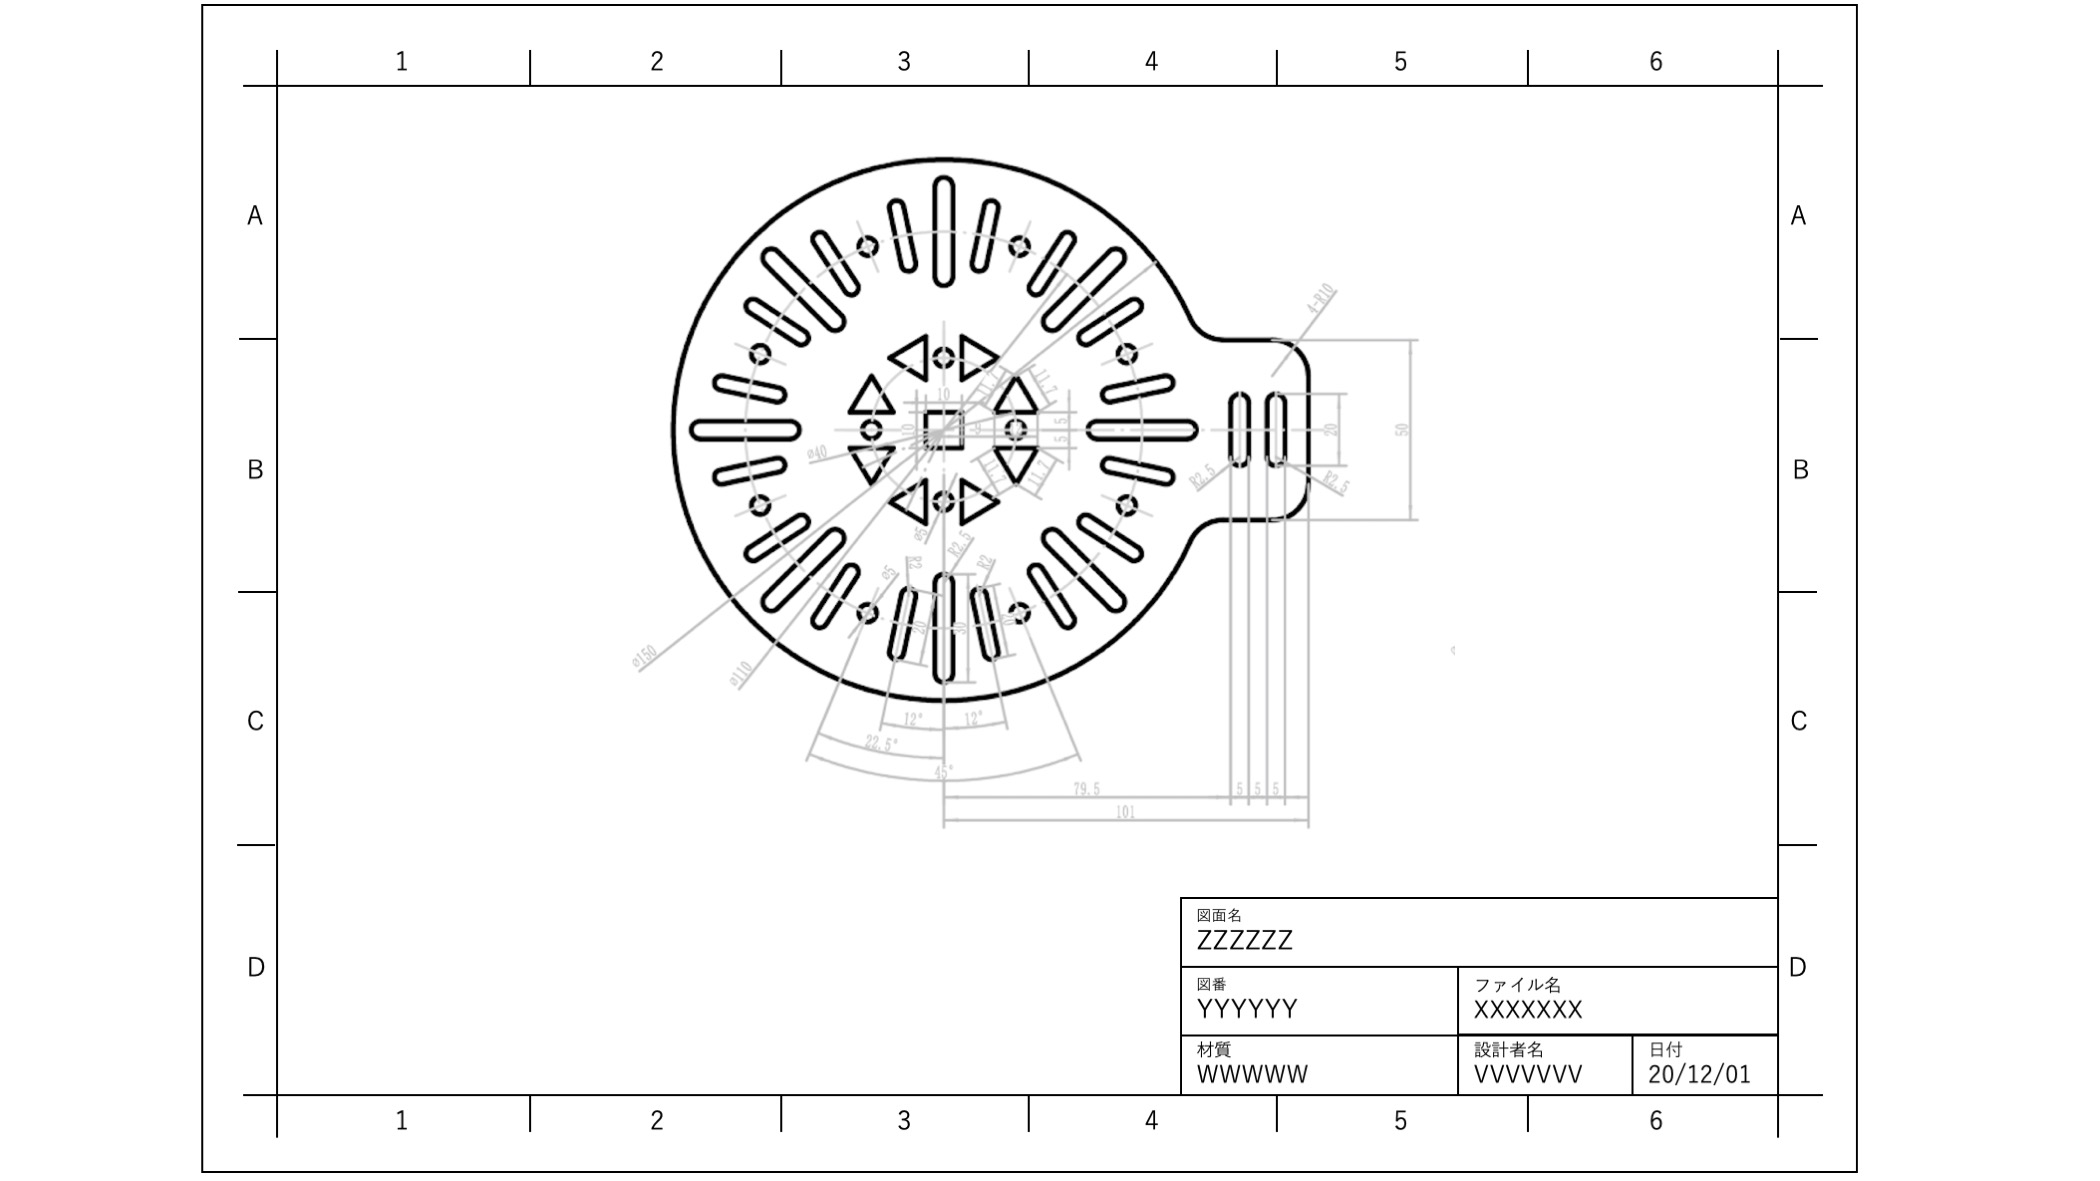circle: (1100, 327, 1145, 363), (1000, 597, 1031, 630), (741, 340, 773, 373), (930, 340, 958, 375), (998, 417, 1031, 444), (930, 480, 956, 515), (851, 597, 878, 629), (1005, 226, 1031, 260), (751, 486, 776, 515), (1112, 492, 1141, 515), (858, 224, 875, 260), (851, 420, 887, 437)
rectangle: (920, 402, 966, 453)
round_rectangle: (1030, 519, 1125, 613), (1041, 244, 1128, 335), (759, 244, 845, 333), (760, 522, 845, 609), (741, 505, 821, 567), (1080, 411, 1199, 451), (1015, 552, 1077, 626), (925, 564, 959, 684), (1064, 506, 1139, 561), (1075, 288, 1142, 348), (740, 291, 811, 348), (925, 170, 956, 294), (811, 554, 862, 629), (1025, 218, 1075, 297), (806, 221, 854, 301), (930, 163, 959, 294), (1092, 365, 1181, 407), (963, 587, 1010, 668), (682, 410, 803, 440), (705, 366, 790, 405), (705, 450, 790, 487), (1223, 378, 1255, 470), (1261, 375, 1289, 476), (883, 187, 916, 273), (1095, 456, 1180, 487), (884, 578, 916, 663), (971, 187, 992, 273)
triangle: (987, 443, 1046, 489), (842, 366, 894, 417), (989, 368, 1041, 415), (958, 322, 992, 389), (847, 444, 897, 490), (953, 472, 995, 525), (890, 470, 927, 526), (886, 329, 927, 376)
